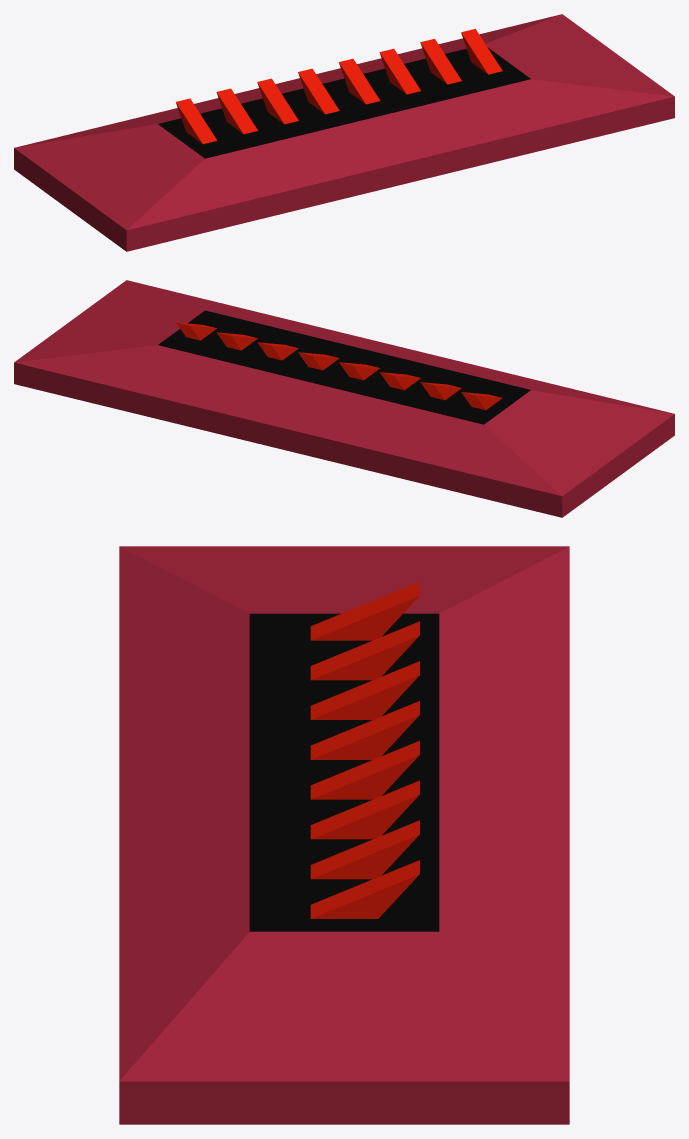
File: ramp.fbx
The picture shows the model from 3 angles, top to bottom: view 1: azimuth 30°, elevation 25°; view 2: azimuth 150°, elevation 25°; view 3: azimuth 270°, elevation 25°; orthographic projection. The views are drawn at different scales.
Parts seen in each view (by area): view 1: Plane; view 2: Plane; view 3: Plane.
Boxes of the visible parts, <box> form: Plane: <box>14,14,674,251</box>; Plane: <box>14,280,674,517</box>; Plane: <box>119,546,569,1124</box>.
Bounding box in the file's own units: 1076 × 121 × 383.
